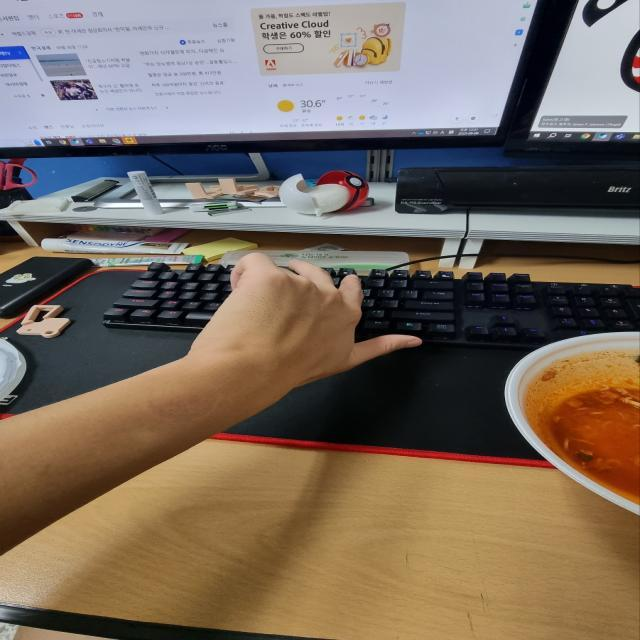keyboard-with-hands: (94, 261, 640, 348)
